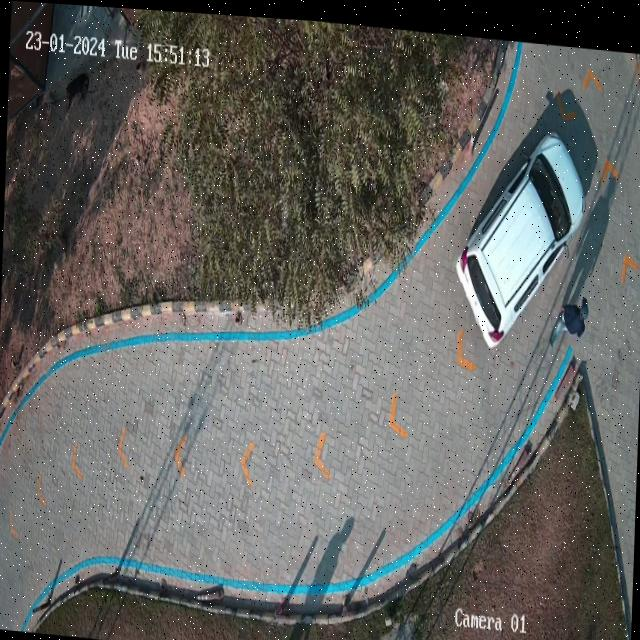car: (455, 121, 585, 342)
